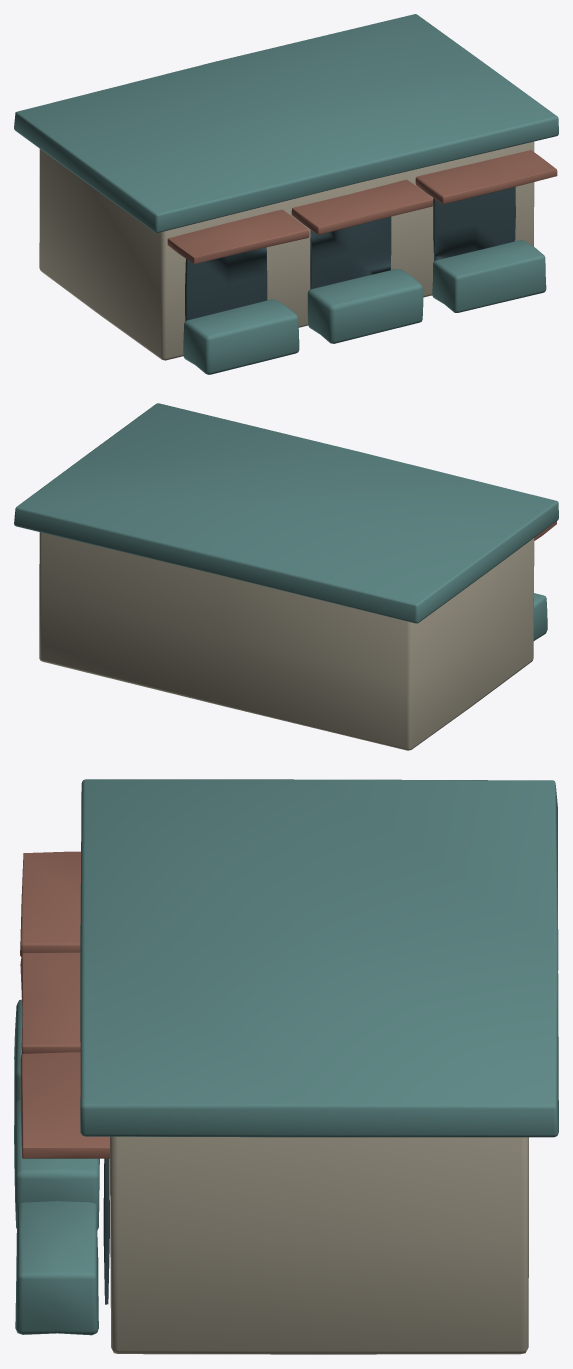
Rendered from prop_market_hall.glb.
3 renders of one model, top to bottom at view 1: azimuth 30°, elevation 25°; view 2: azimuth 150°, elevation 25°; view 3: azimuth 270°, elevation 25°, orthographic. The views are drawn at different scales.
Parts seen in each view (by area): view 1: scenery_teal, scenery_cream, scenery_glass, scenery_coral; view 2: scenery_teal, scenery_cream; view 3: scenery_teal, scenery_cream, scenery_coral, scenery_glass.
Part boxes in pixels (left/top/right/bottom): scenery_teal: left=14, top=14, right=558, bottom=374; scenery_cream: left=39, top=141, right=534, bottom=360; scenery_glass: left=185, top=187, right=515, bottom=320; scenery_coral: left=167, top=150, right=557, bottom=263; scenery_teal: left=14, top=403, right=558, bottom=640; scenery_cream: left=39, top=532, right=534, bottom=750; scenery_teal: left=14, top=779, right=558, bottom=1335; scenery_cream: left=110, top=1136, right=528, bottom=1354; scenery_coral: left=20, top=851, right=109, bottom=1158; scenery_glass: left=103, top=1158, right=109, bottom=1304.
Bounding box in the file's own units: 13 × 4.9 × 9.1.
